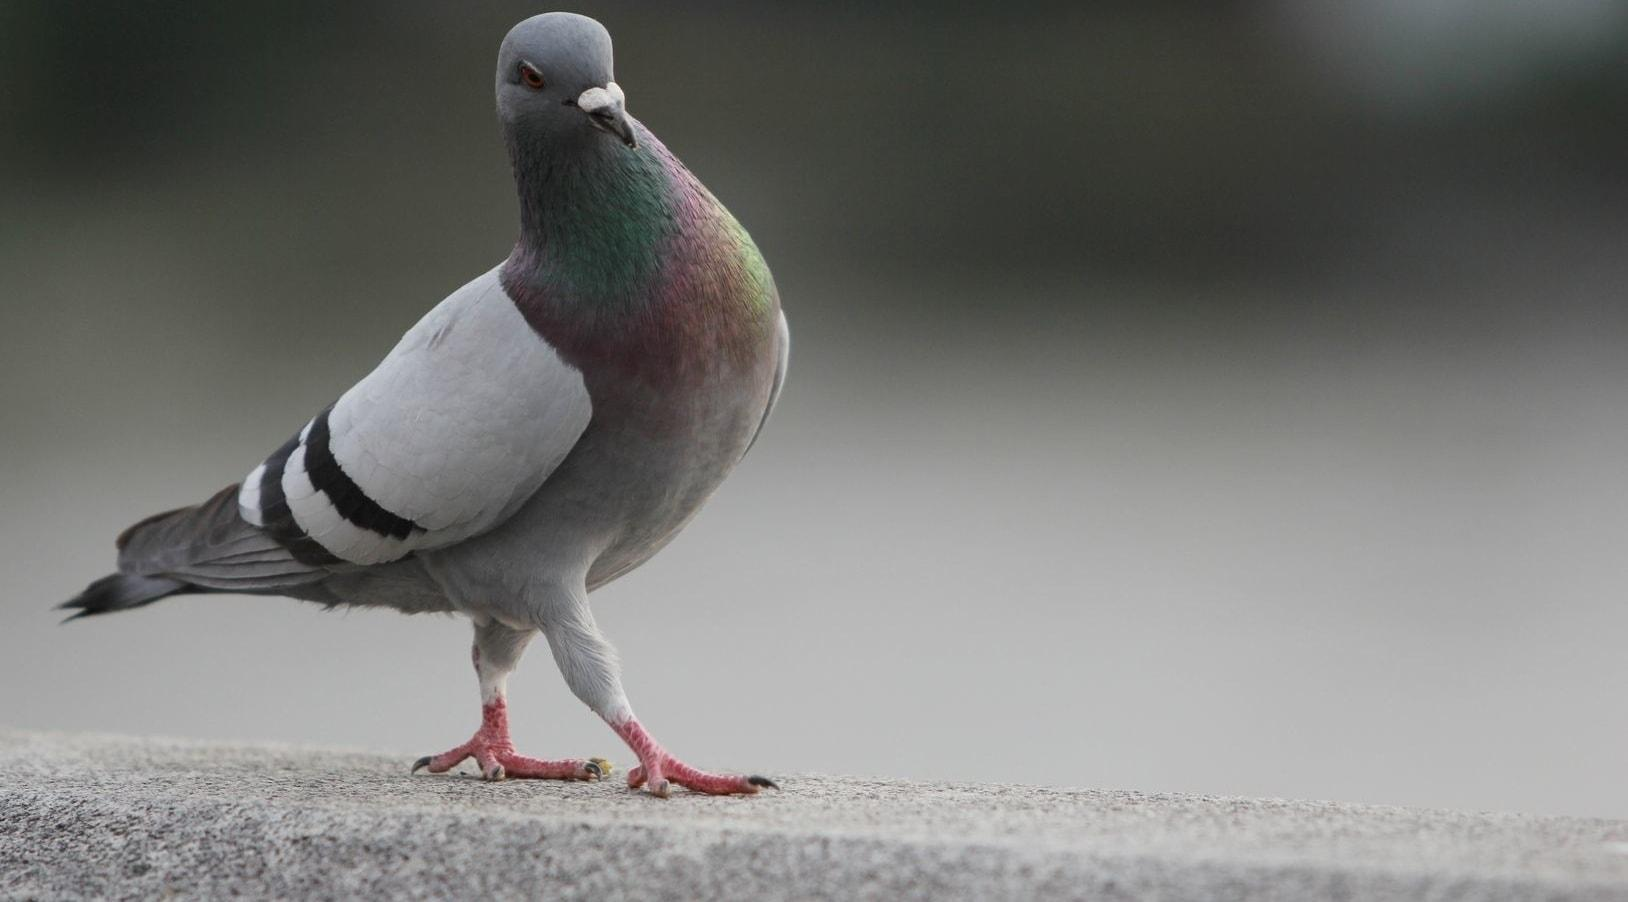Flying Rat: (78, 19, 802, 804)
